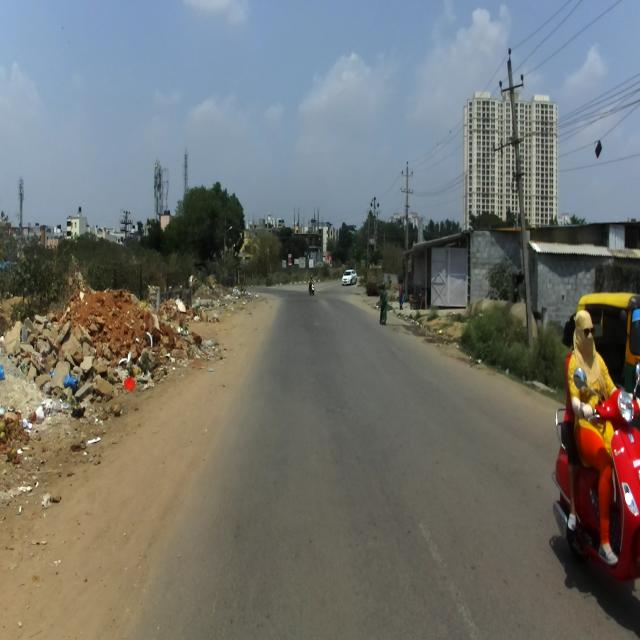motorcycle ahead at: (559, 305, 640, 608)
